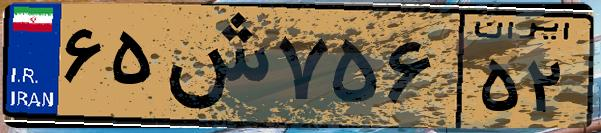2: (525, 38, 570, 115)
5: (330, 28, 385, 110), (475, 38, 525, 113), (110, 28, 158, 98)
6: (385, 28, 445, 110), (57, 26, 110, 100)
7: (270, 28, 330, 110)
ش: (158, 12, 270, 120)
